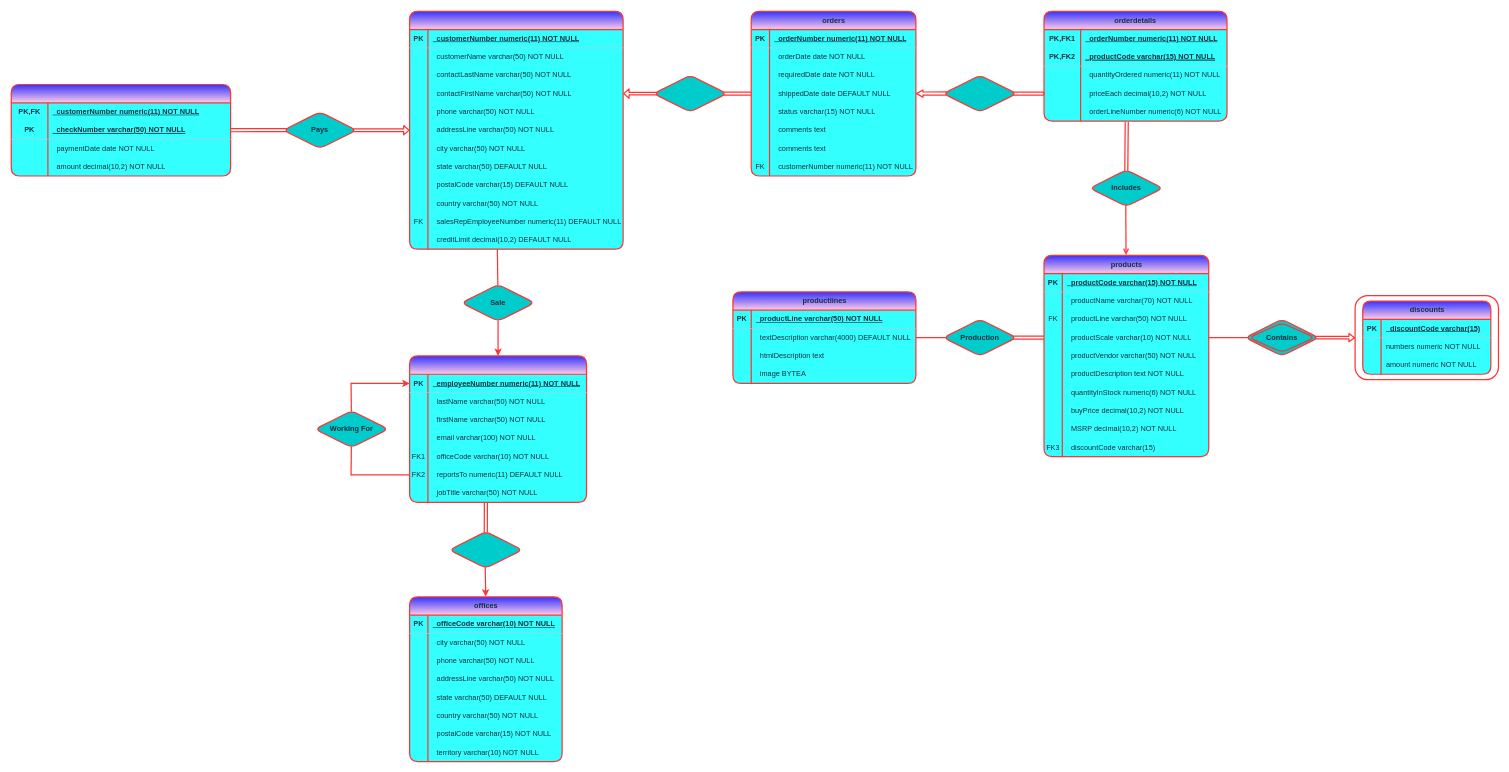
This 1509x772 diagram has some shape labels left out. Each missing label, with the box of its shape:
Buys: (653, 74, 727, 112)
customers: (409, 10, 623, 249)
employees: (409, 355, 587, 503)
Have: (942, 74, 1017, 112)
payments: (10, 84, 231, 176)
WorkPlace: (448, 531, 523, 569)
